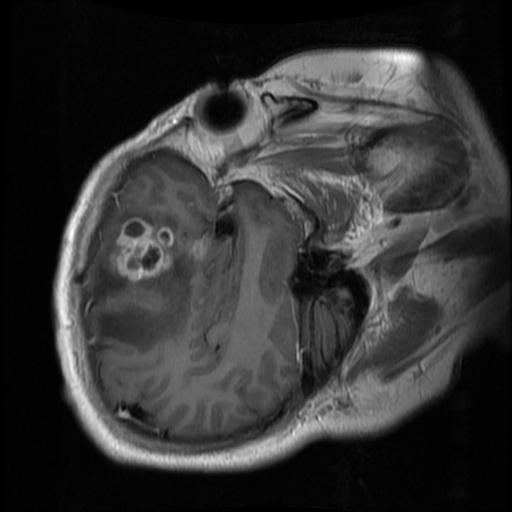glioma: (90, 212, 192, 354)
